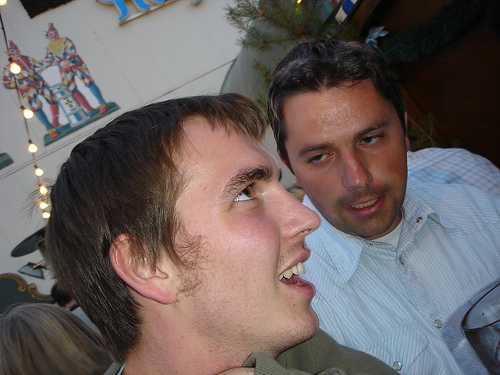without_mask: (117, 108, 328, 375), (277, 69, 427, 238)
